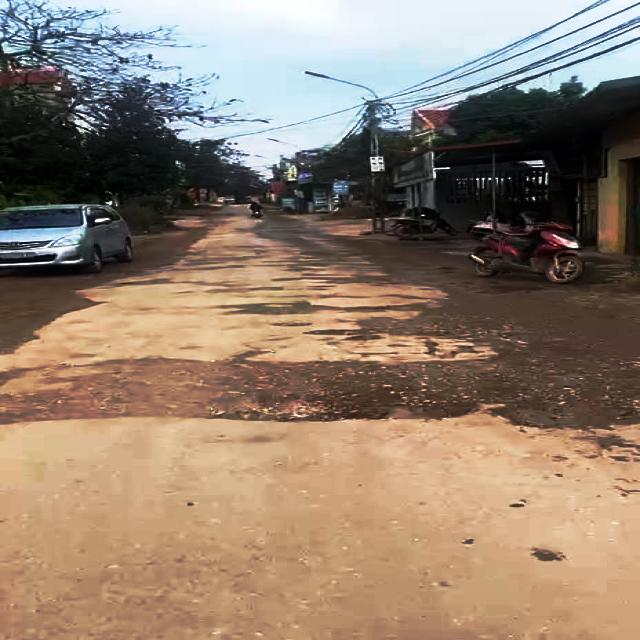pothole: (216, 361, 504, 420), (21, 361, 219, 422), (491, 383, 640, 428), (398, 325, 508, 360), (229, 300, 317, 317), (302, 326, 382, 344)
